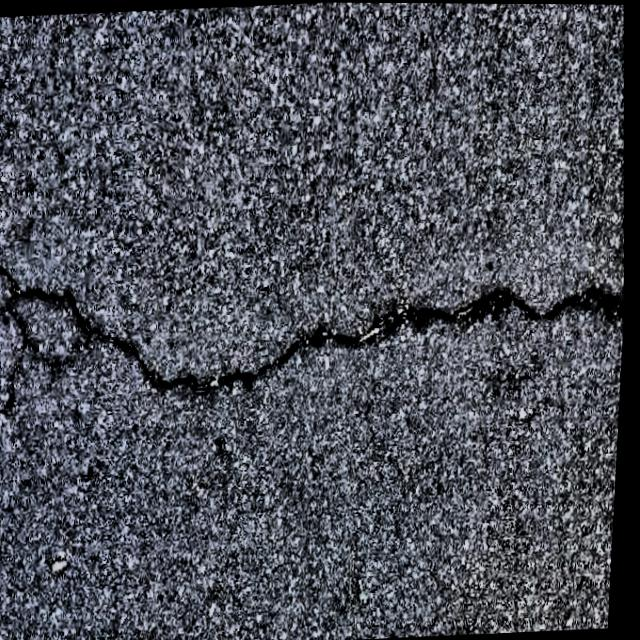cracks: (0, 266, 627, 394)
